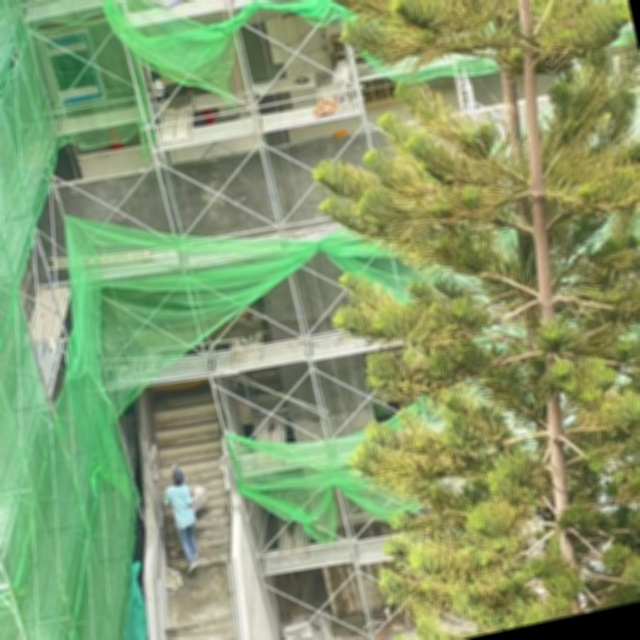Sin_Chaleco: (168, 484, 197, 529)
